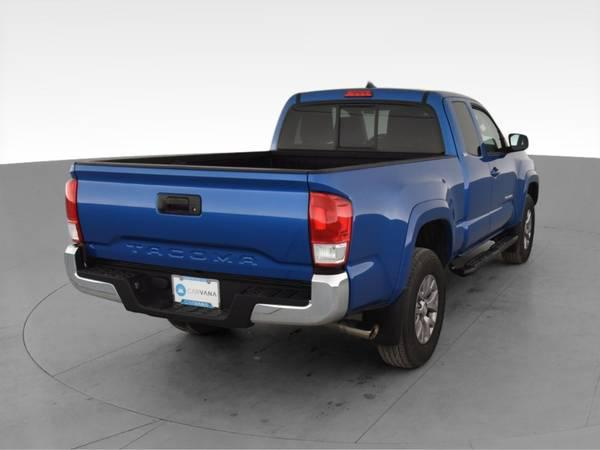Front_Right_Door: (487, 150, 522, 240)
Front_Right_Window: (468, 96, 509, 153)
Left_Taillight: (63, 176, 82, 245)
Rear_Bumper: (63, 242, 349, 326)
Rear_Fender: (309, 153, 466, 313)
Rear_Right_Door: (460, 153, 495, 256)
Rear_Right_Window: (443, 93, 485, 159)
Rear_Windshield: (270, 89, 456, 155)
Right_Taillight: (309, 191, 350, 270)
Tailgate: (70, 165, 311, 292)
Wheel: (378, 248, 447, 367), (501, 197, 534, 264)
